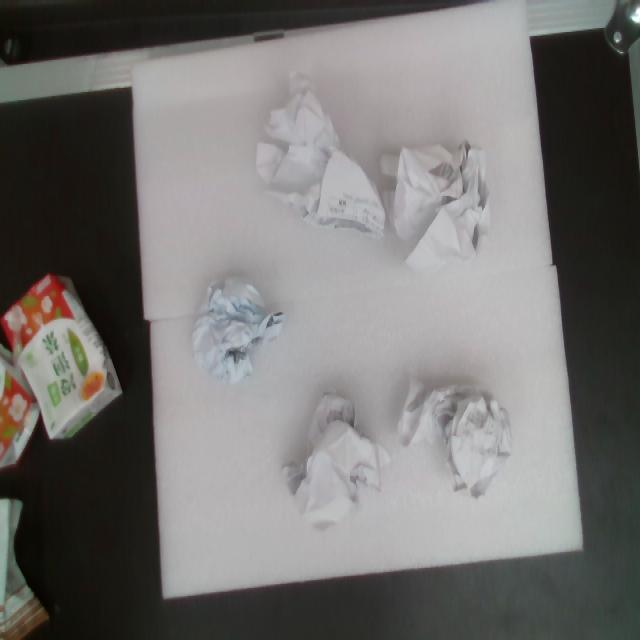paper: (239, 360, 429, 563), (222, 50, 391, 269), (366, 353, 534, 526), (371, 119, 514, 294), (159, 254, 306, 411)
